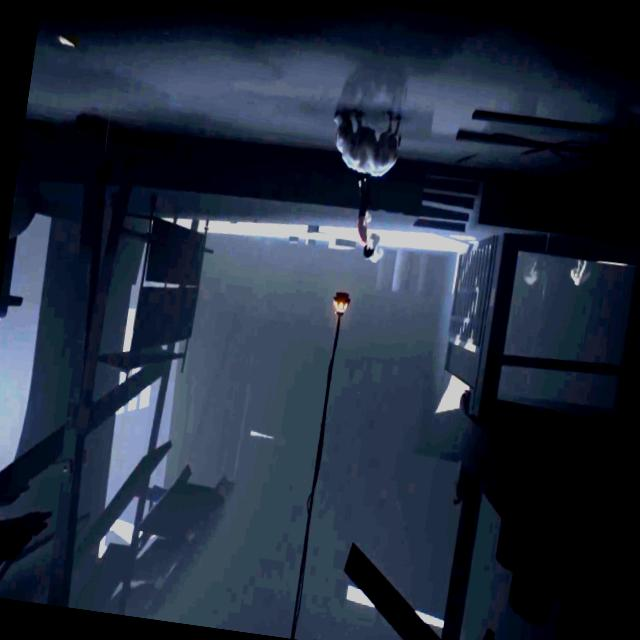boy: (347, 170, 386, 262)
zombie: (570, 259, 592, 287), (522, 252, 540, 286)
